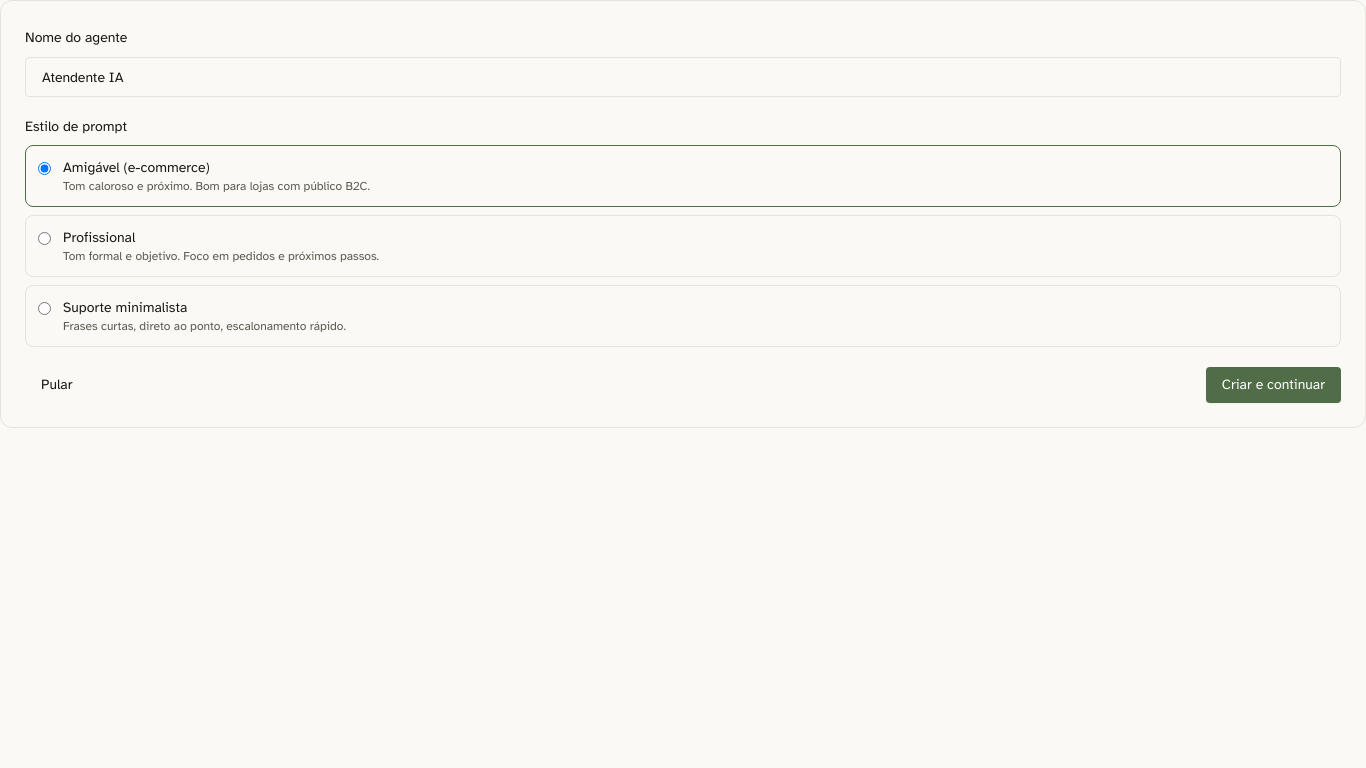
Scenario: setup de IA: o que a tela diz quando o agente fica rascunho › uma retentativa que dá certo apaga o aviso anterior
Click the button "Criar e continuar": (1273, 385) [1206,367,1341,403]
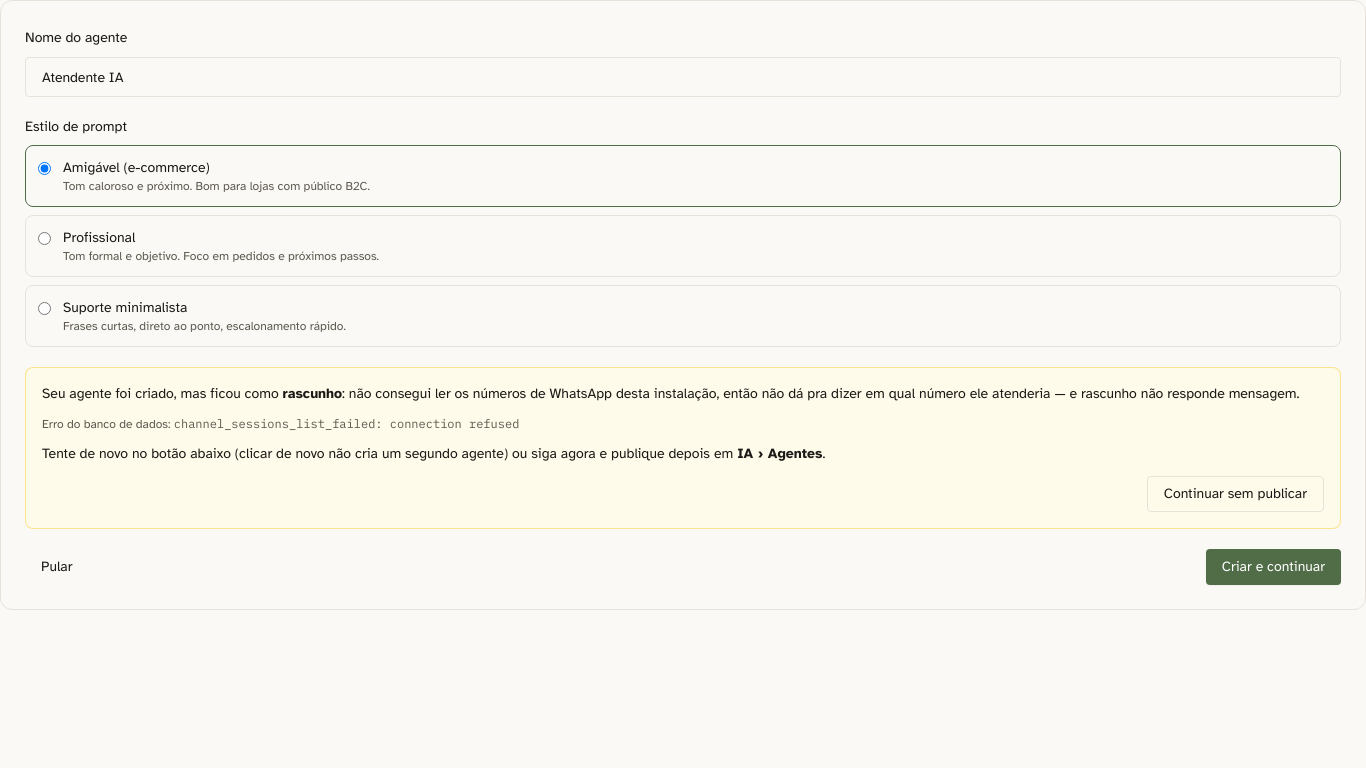
expect the message is shown: met, box [25,367,1341,529]
Click the button "Criar e continuar": (1273, 567) [1206,549,1341,585]
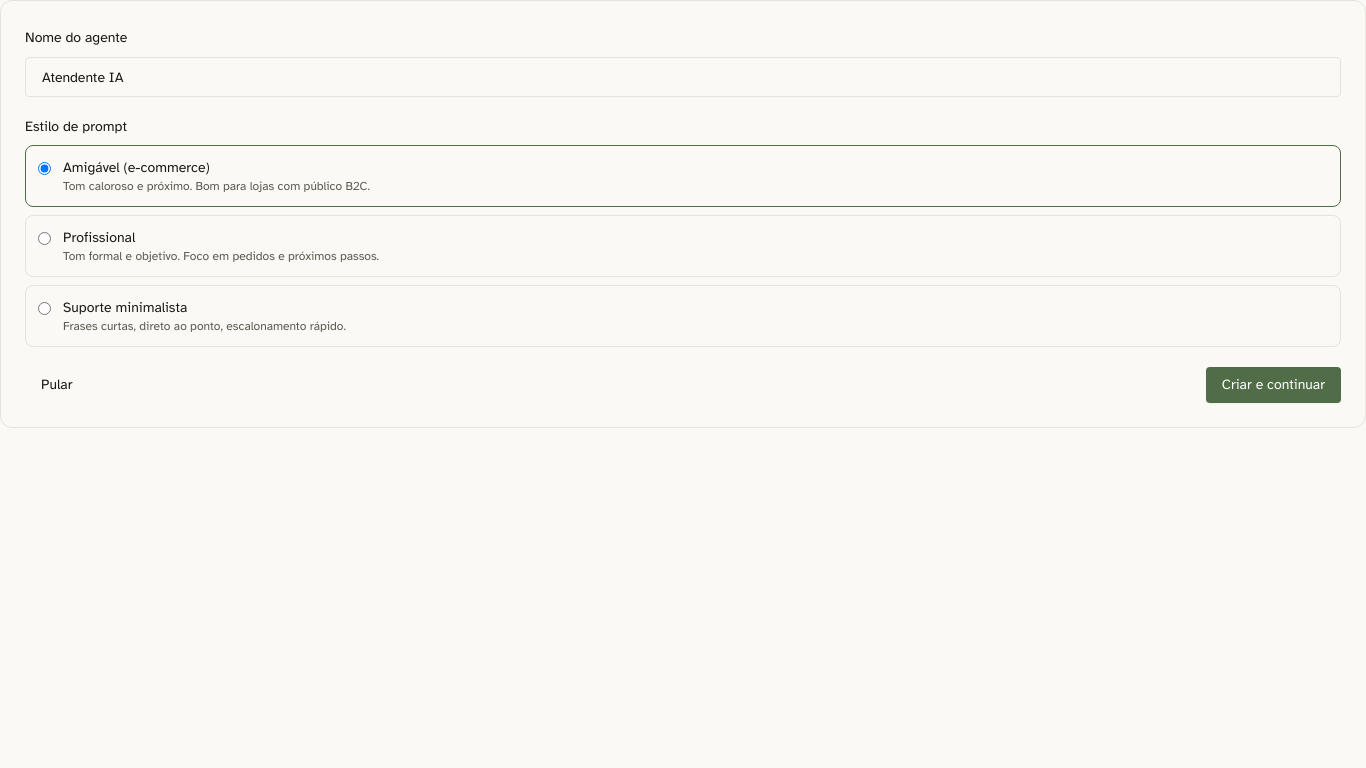
expect the message is gone: met
